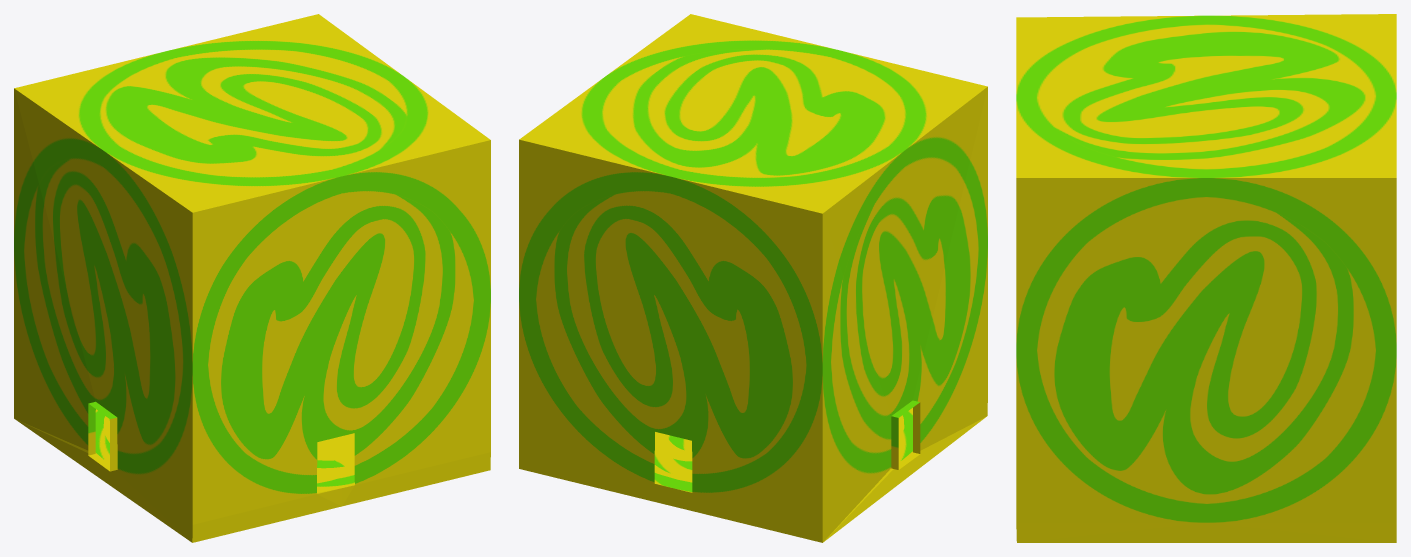
File: Yellow_Rm.fbx
3 views of the same model, side by side, from view 1: azimuth 30°, elevation 25°; view 2: azimuth 150°, elevation 25°; view 3: azimuth 270°, elevation 25° (orthographic). The views are drawn at different scales.
Visible parts, largest first — view 1: P_Yellow_Rm; view 2: P_Yellow_Rm; view 3: P_Yellow_Rm.
Boxes of the visible parts, x1=… form: P_Yellow_Rm: x1=14, y1=14, x2=490, y2=542; P_Yellow_Rm: x1=519, y1=14, x2=987, y2=542; P_Yellow_Rm: x1=1016, y1=14, x2=1396, y2=542.
Bounding box in the file's own units: 28.5 × 29.44 × 27.82.
